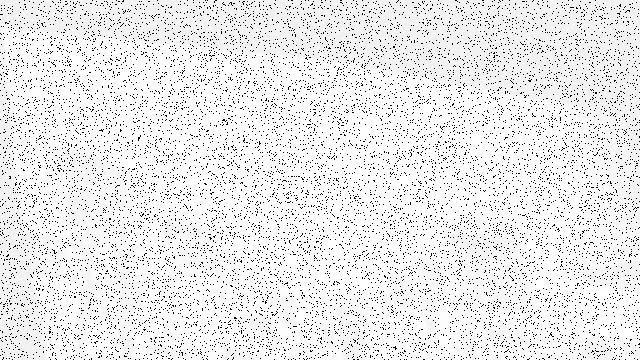pot: (560, 105, 640, 292), (27, 149, 154, 253), (440, 232, 540, 313), (168, 223, 231, 278), (413, 260, 476, 314), (568, 254, 640, 291), (384, 276, 429, 313), (207, 254, 246, 288), (245, 270, 271, 295), (375, 291, 402, 314), (350, 293, 370, 310)
